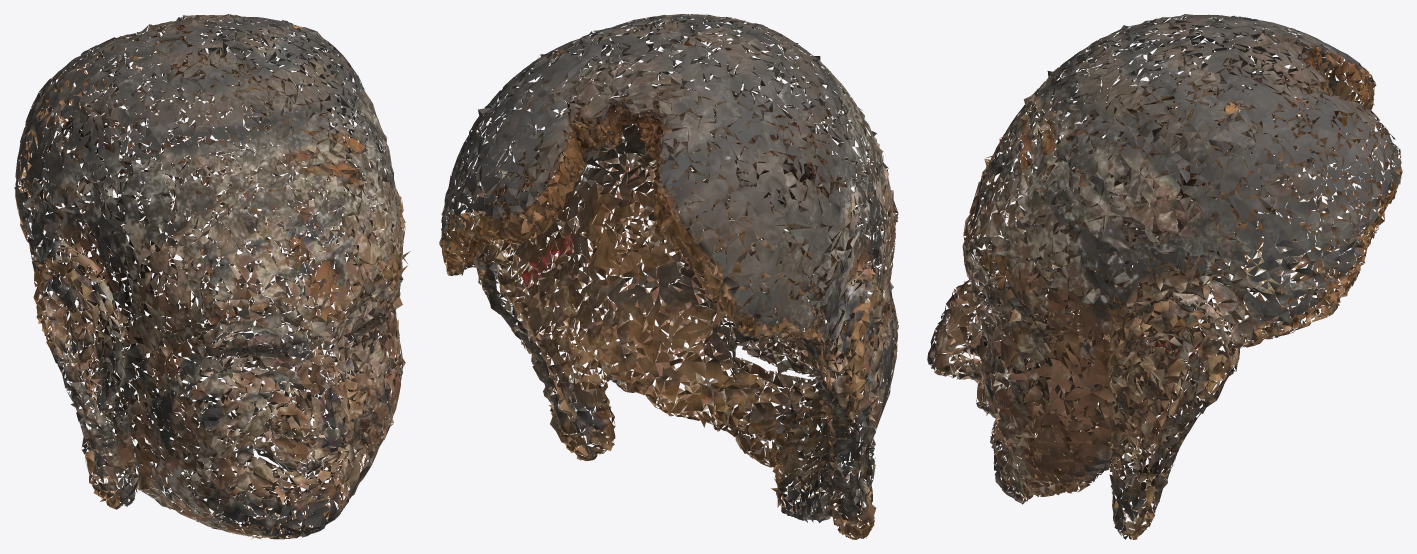
The model's file is mask.glb.
3 views of the same model, side by side, from view 1: azimuth 30°, elevation 25°; view 2: azimuth 150°, elevation 25°; view 3: azimuth 270°, elevation 25° (orthographic). The views are drawn at different scales.
Visible parts, largest first — view 1: Object_2; view 2: Object_2; view 3: Object_2.
Boxes of the visible parts, x1=… form: Object_2: x1=14, y1=14, x2=410, y2=539; Object_2: x1=439, y1=14, x2=898, y2=539; Object_2: x1=927, y1=14, x2=1402, y2=539.
Bounding box in the file's own units: 0.2246 × 0.28 × 0.2539.
Materials: 1 (1 with a texture image).
